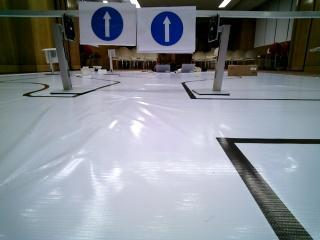straight: (137, 6, 192, 52), (78, 2, 134, 46)
